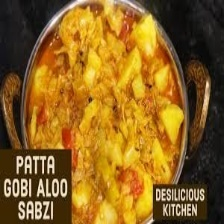sabzi: (22, 0, 188, 223)
